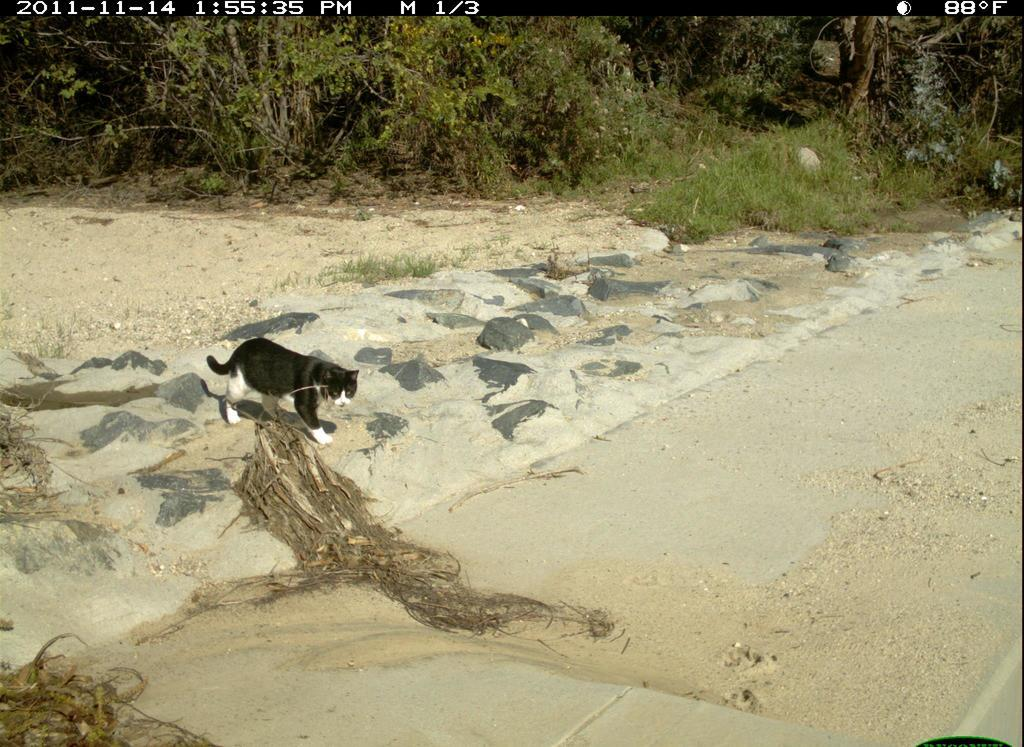cat: (201, 335, 362, 449)
